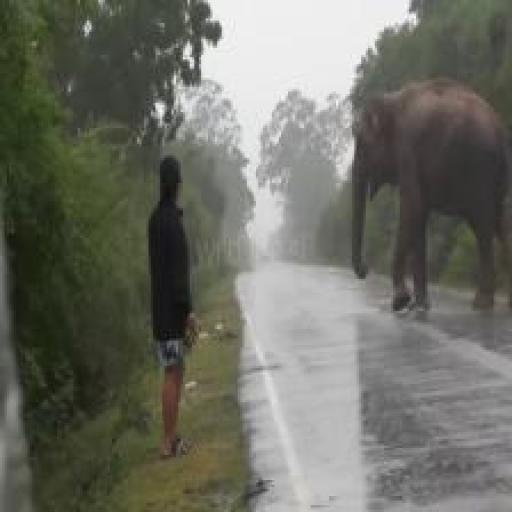Elephant: (350, 53, 511, 338)
